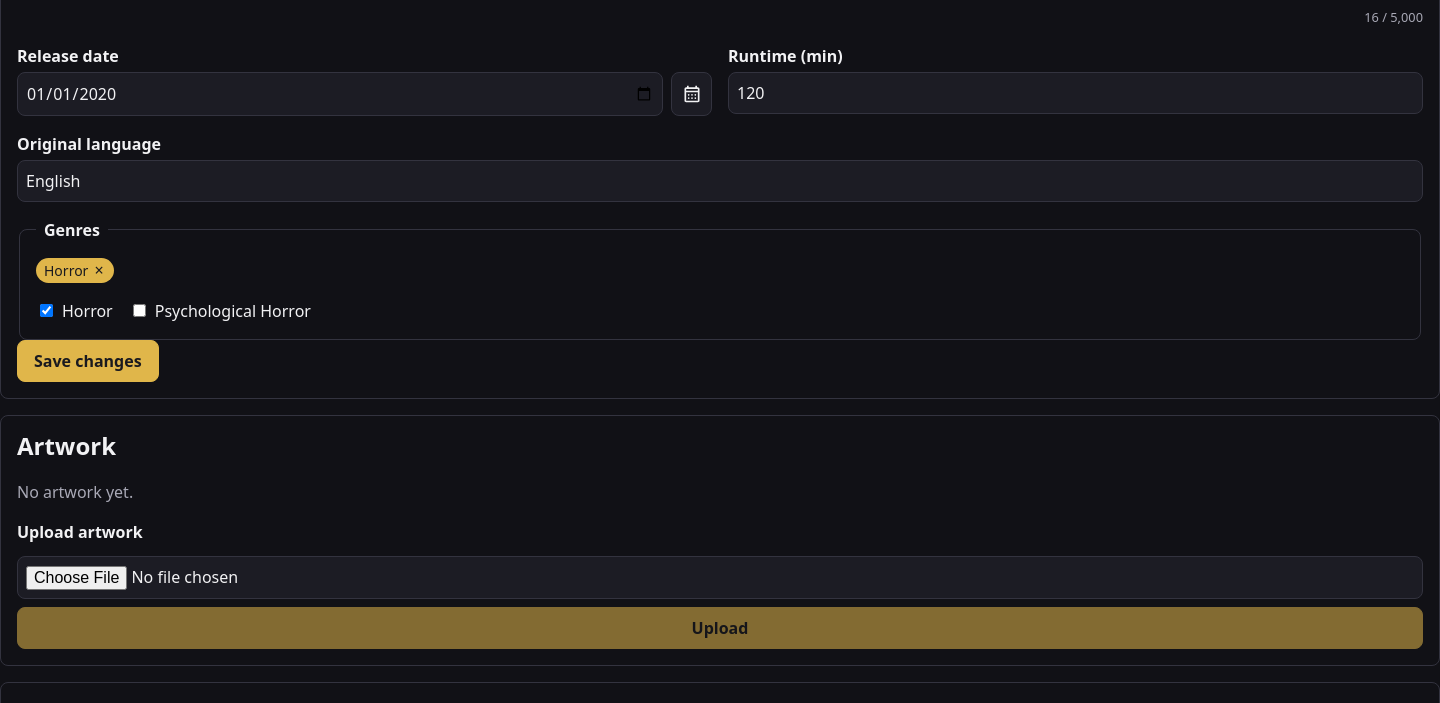
Test: staleness banner (V2.2-11) › appears when the version has moved and is dismissible
(page scrolled)
Click the button "Save changes" at [88, 360], box [17, 340, 159, 382]
(page scrolled)
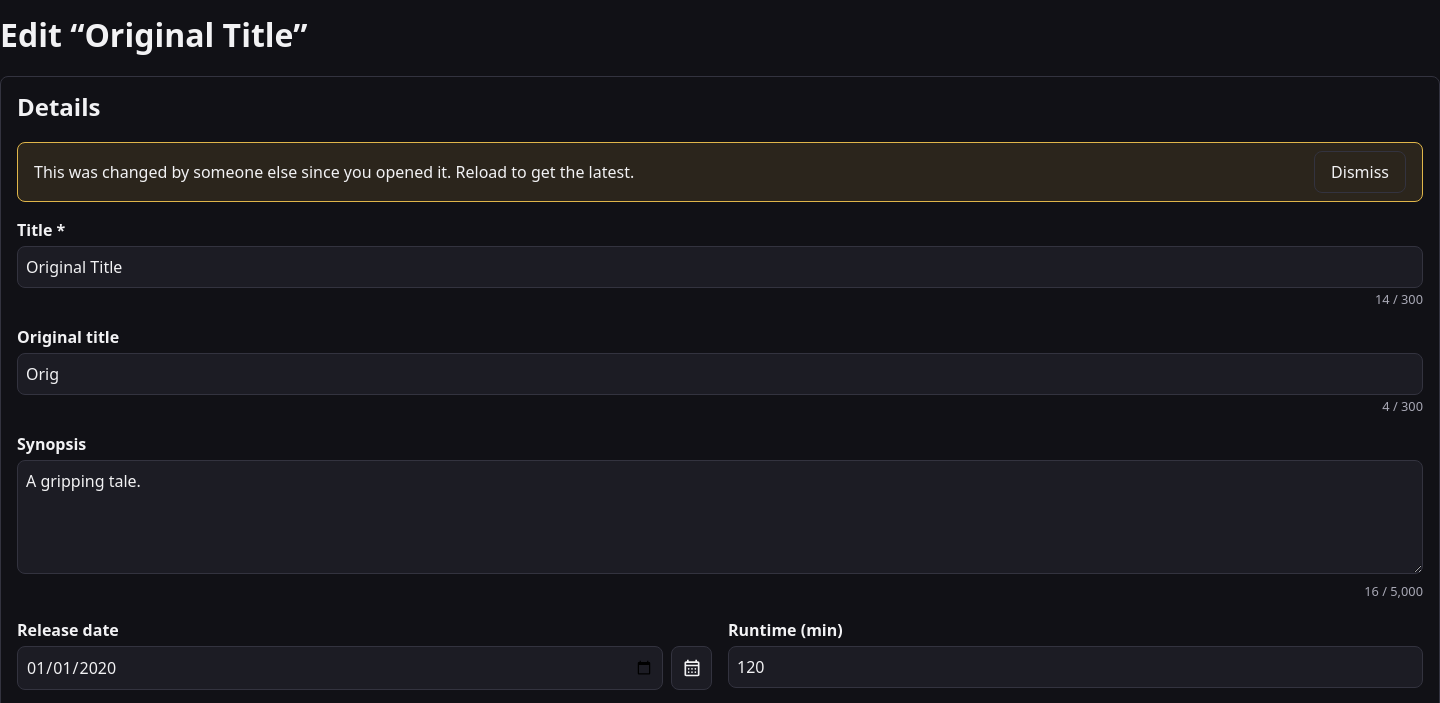
Expected: the message shows "changed by someone else", [34, 161, 634, 183]
Click the button "Dismiss" at [1360, 172], box [1314, 151, 1406, 193]
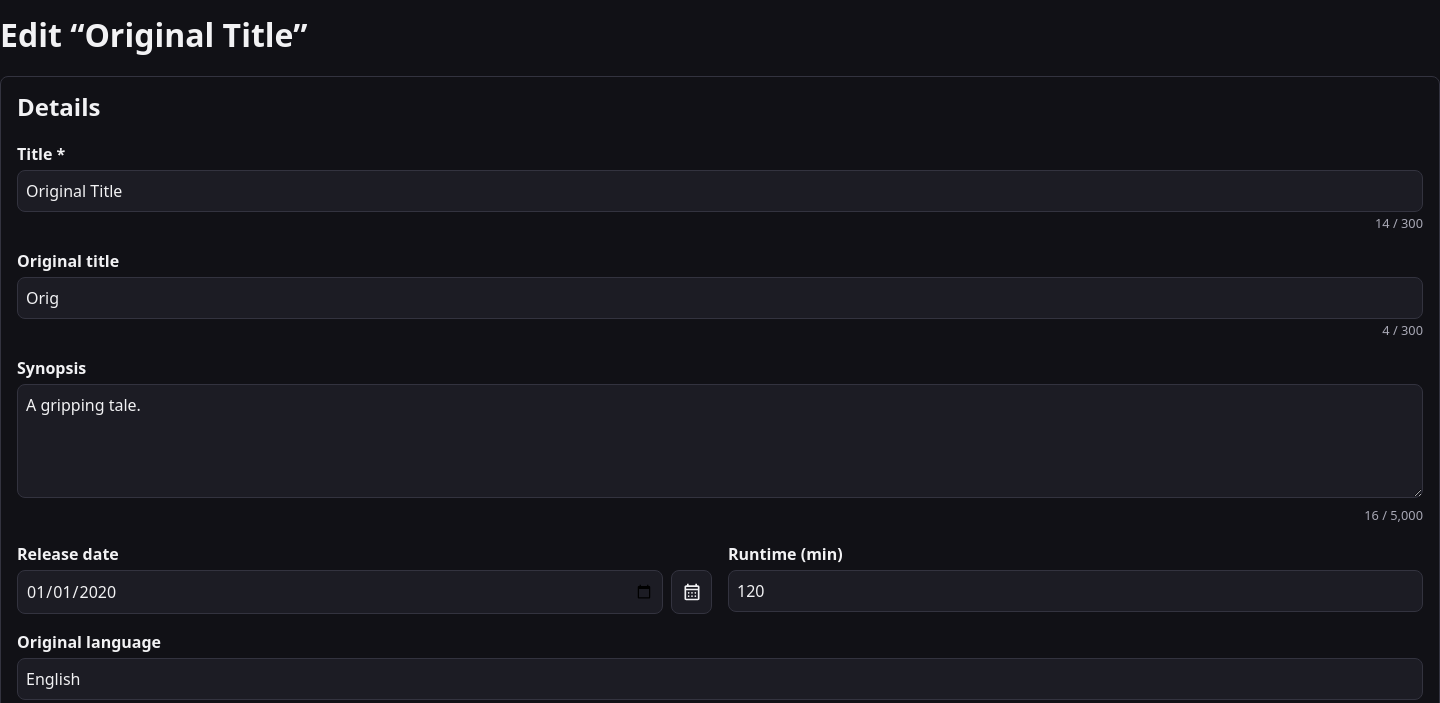
Expected: the message "This was changed by someone else since you opened it. Reload to get the latest." is gone
